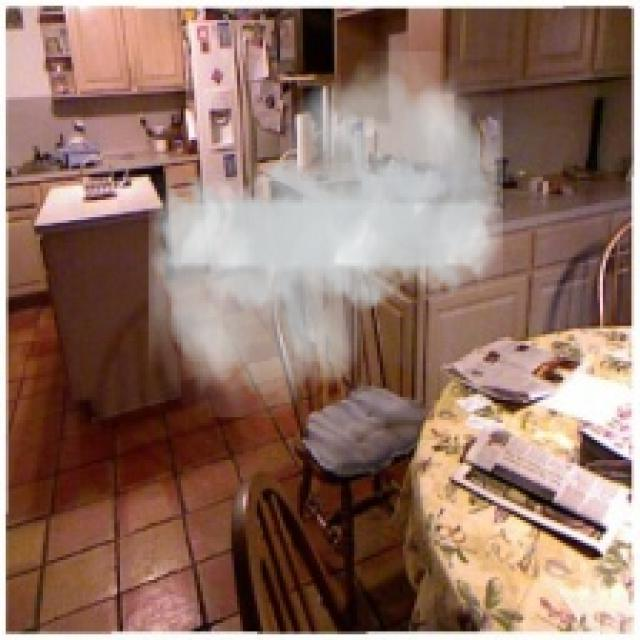Smoke: (148, 52, 503, 417)
